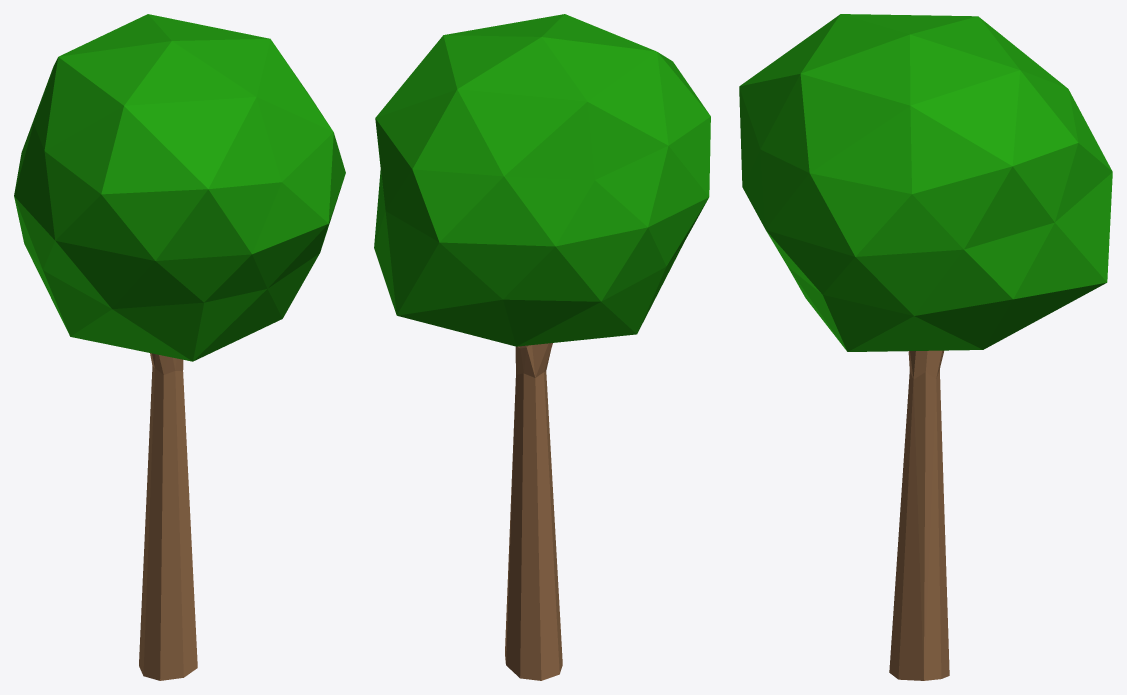
File: Tree_1.fbx
The picture shows the model from 3 angles, left to right: view 1: azimuth 30°, elevation 25°; view 2: azimuth 150°, elevation 25°; view 3: azimuth 270°, elevation 25°; orthographic projection. The views are drawn at different scales.
Parts seen in each view (by area): view 1: Tree_mesh; view 2: Tree_mesh; view 3: Tree_mesh.
Part boxes in pixels (x1=…): Tree_mesh: x1=14, y1=14, x2=345, y2=680; Tree_mesh: x1=374, y1=14, x2=710, y2=680; Tree_mesh: x1=739, y1=14, x2=1112, y2=680.
Bounding box in the file's own units: 315 × 658 × 348.
